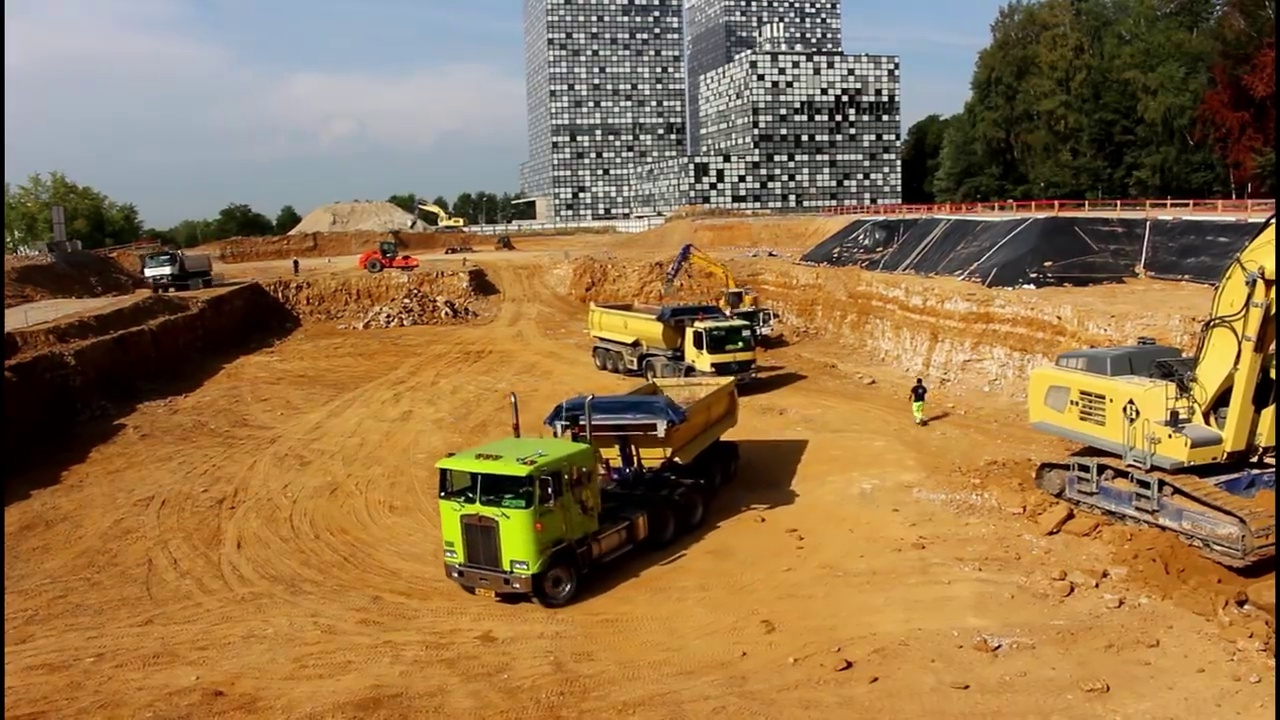compactor: (358, 240, 424, 274)
excavator: (1024, 210, 1280, 574), (657, 241, 767, 330), (405, 199, 469, 236)
truck: (431, 372, 744, 614), (584, 306, 758, 393), (141, 247, 216, 296), (692, 303, 768, 350)
worker: (905, 372, 933, 427), (289, 254, 305, 283)
